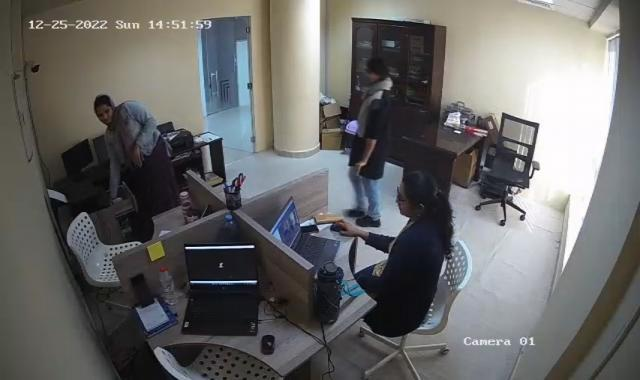no_hairnet: (397, 174, 434, 217), (363, 58, 388, 87), (92, 94, 116, 122)
